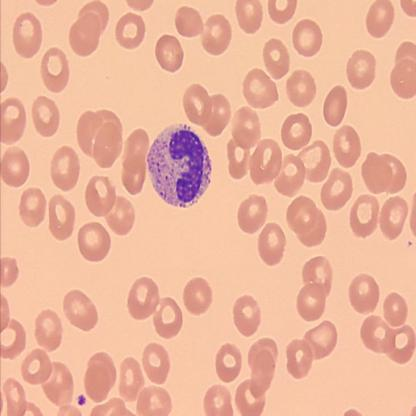Band Neutrophil: (144, 121, 214, 210)
